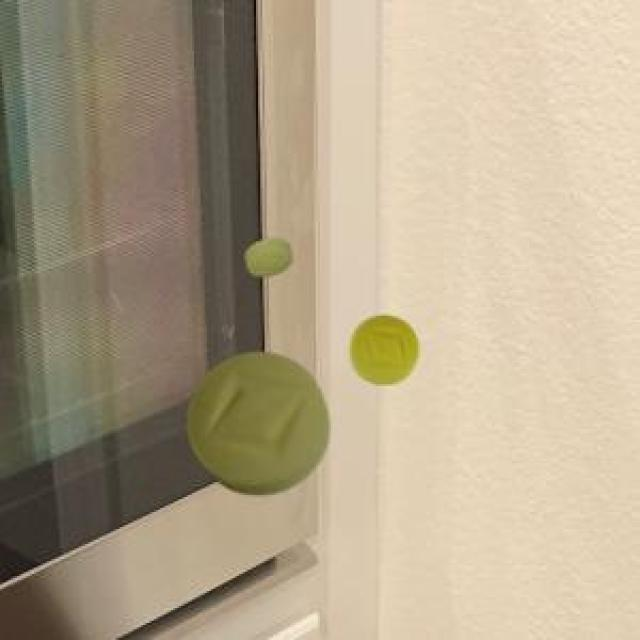Decolgen: (172, 335, 337, 507), (342, 300, 431, 394), (236, 220, 296, 288)
